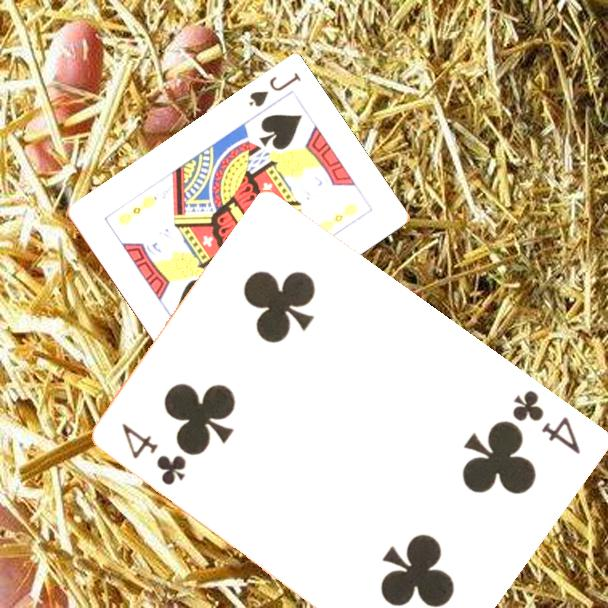c04: (509, 386, 585, 457), (118, 419, 190, 488)
s11: (245, 69, 304, 111)
